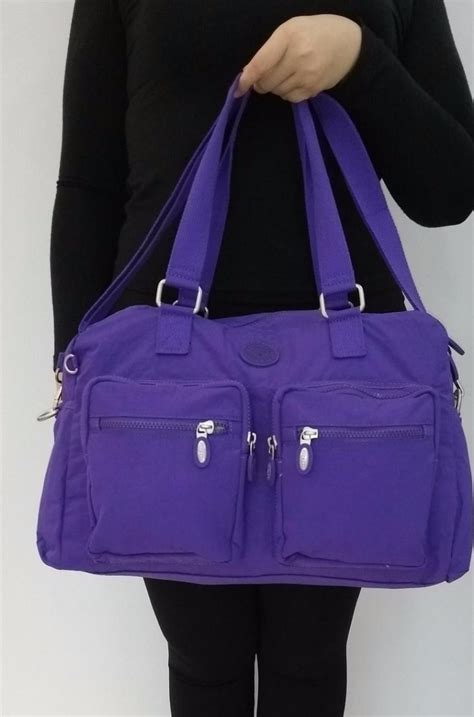nylon: (37, 70, 474, 591)
